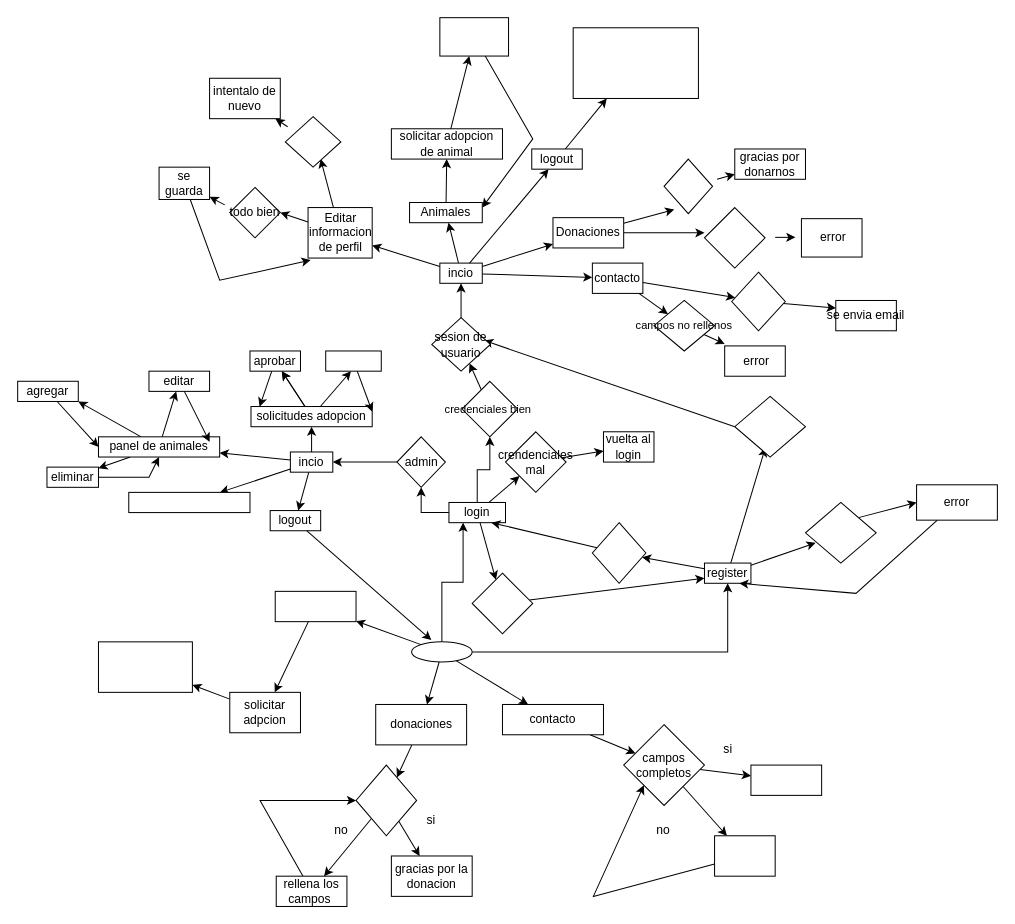
Some shapes in this 1015 by 924 pixel diagram are drawn without their labels. Here are the shapes that lost their labels. From the top down, the centre of each, then its label:
[474,36]: a espera de correo
[635,62]: va a la pagina de inicio(la flechita quedaba demasiado ilegible)
[312,141]: duplicate entry
[688,186]: campos completados
[734,237]: campos no completos
[758,301]: campos rellenos
[353,360]: rechazar
[769,426]: credencales bien?
[189,502]: usuarios registrados
[618,552]: ya tienes cuenta?
[840,532]: credenciales mal
[315,606]: adoptar
[502,603]: aun no tienes cuenta
[144,666]: error por no estar registrado
[441,651]: Inicio
[786,779]: se manda correo
[386,800]: campos rellenos?
[744,855]: completa los campos
